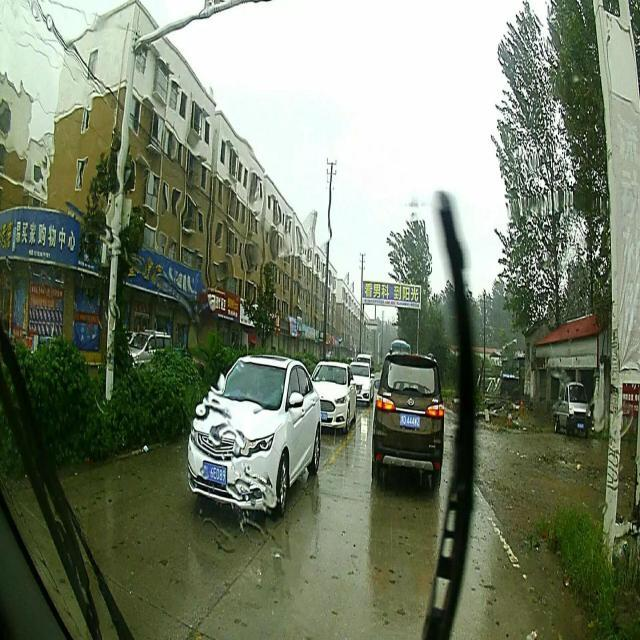car: (188, 353, 320, 509), (369, 348, 444, 488), (313, 361, 357, 435), (350, 357, 374, 408)
